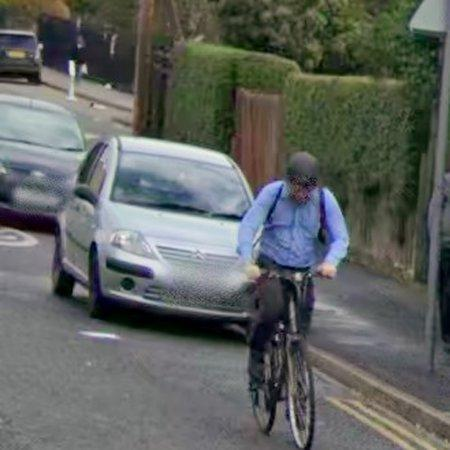bicycles: (252, 272, 316, 450)
